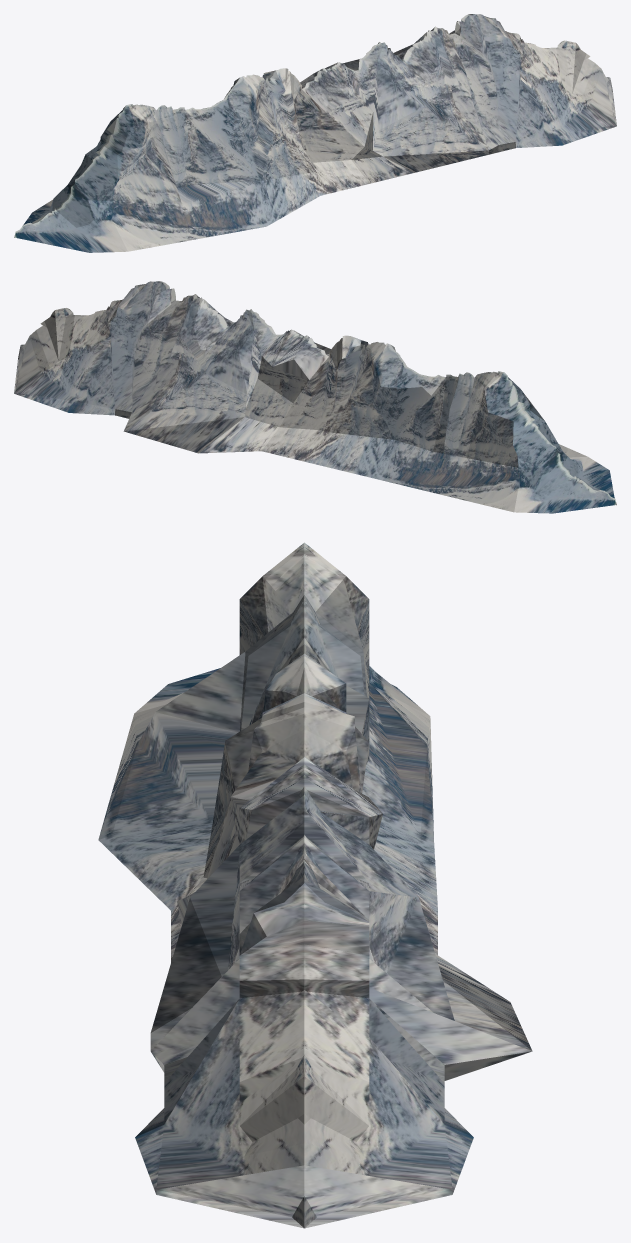
File: dents_midi_low_poly_after_merge.glb
3 renders of one model, top to bottom at view 1: azimuth 30°, elevation 25°; view 2: azimuth 150°, elevation 25°; view 3: azimuth 270°, elevation 25°, orthographic. The views are drawn at different scales.
Visible parts, largest first — view 1: Plane; view 2: Plane; view 3: Plane.
Boxes of the visible parts, bbox=[...] form: Plane: bbox=[14, 14, 616, 252]; Plane: bbox=[14, 281, 616, 513]; Plane: bbox=[98, 542, 532, 1228].
Size of the model in its own units: 189 by 34.43 by 59.34.
2 materials, 1 textured.
